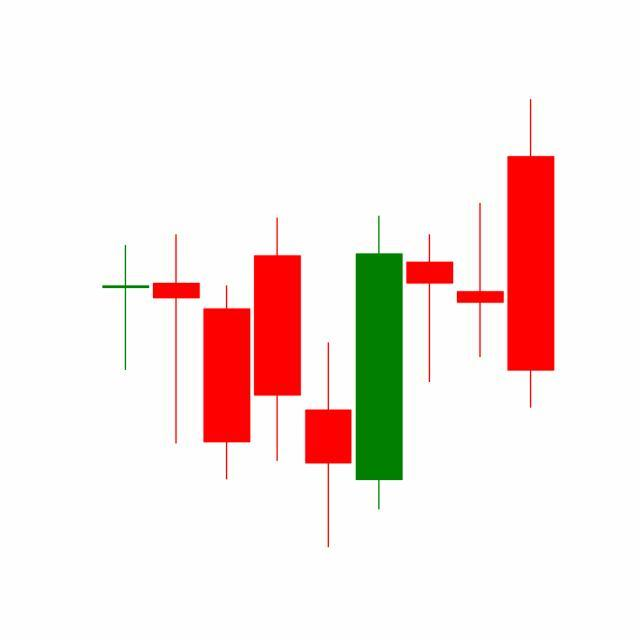Hikkake Pattern: (252, 198, 506, 548)
